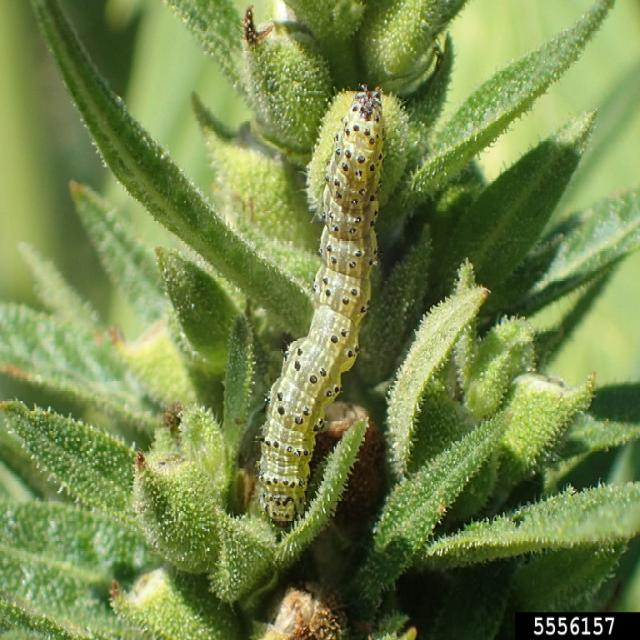Corn-earworm: (272, 89, 370, 530)
